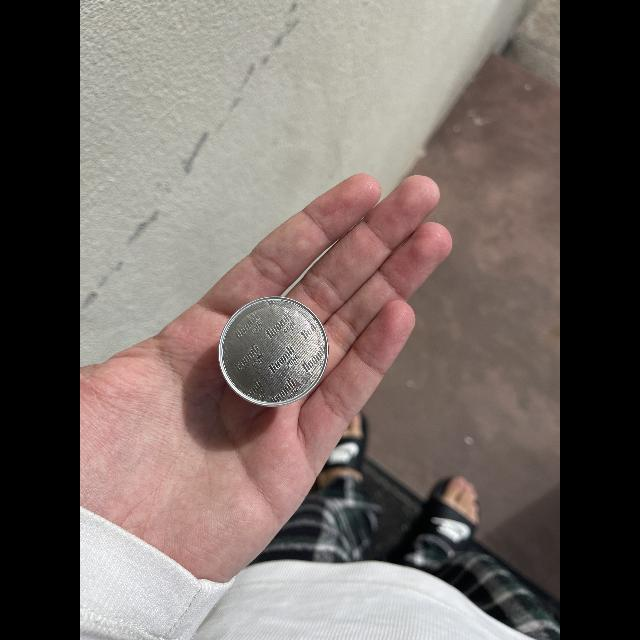intact_capsule: (211, 286, 343, 420)
